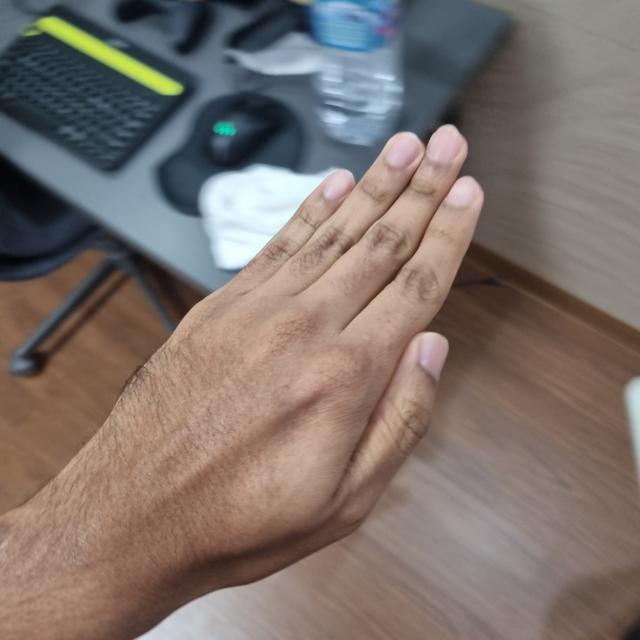Paper: (61, 126, 484, 581)
